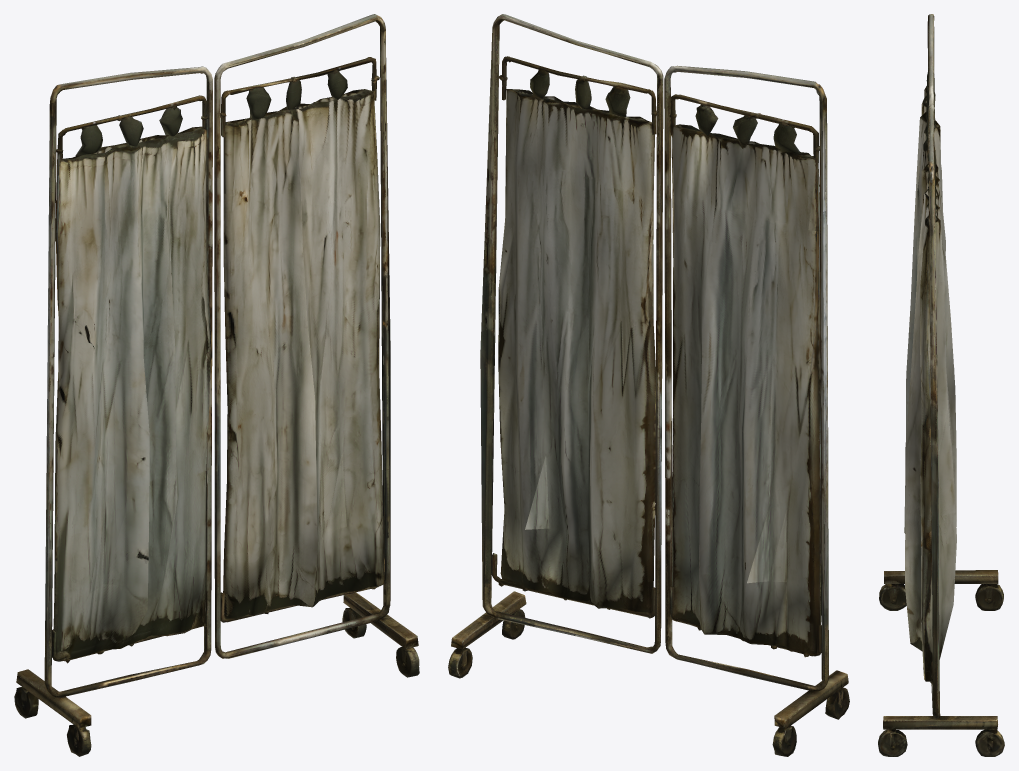
The model's file is medical privacy screen.fbx.
3 views of the same model, side by side, from view 1: azimuth 30°, elevation 25°; view 2: azimuth 150°, elevation 25°; view 3: azimuth 270°, elevation 25° (orthographic). The views are drawn at different scales.
Visible parts, largest first — view 1: mesh_node; view 2: mesh_node; view 3: mesh_node.
Part boxes in pixels (<box>): mesh_node: <box>14,14,419,756</box>; mesh_node: <box>448,14,849,756</box>; mesh_node: <box>878,14,1004,756</box>.
Bounding box in the file's own units: 55.66 × 100 × 19.29.
Materials: 1 (1 with a texture image).
